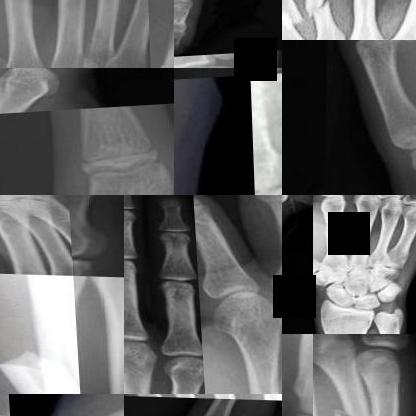fracture: (0, 340, 79, 394), (81, 162, 174, 194), (301, 0, 346, 30), (325, 218, 356, 256), (282, 0, 311, 39), (334, 399, 378, 415)
